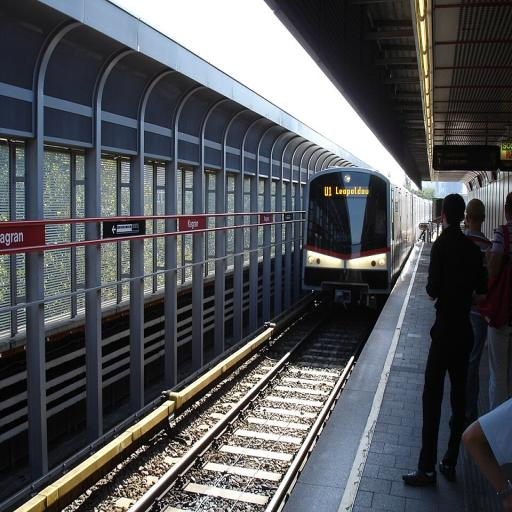V-Wagen: (301, 161, 432, 308)
